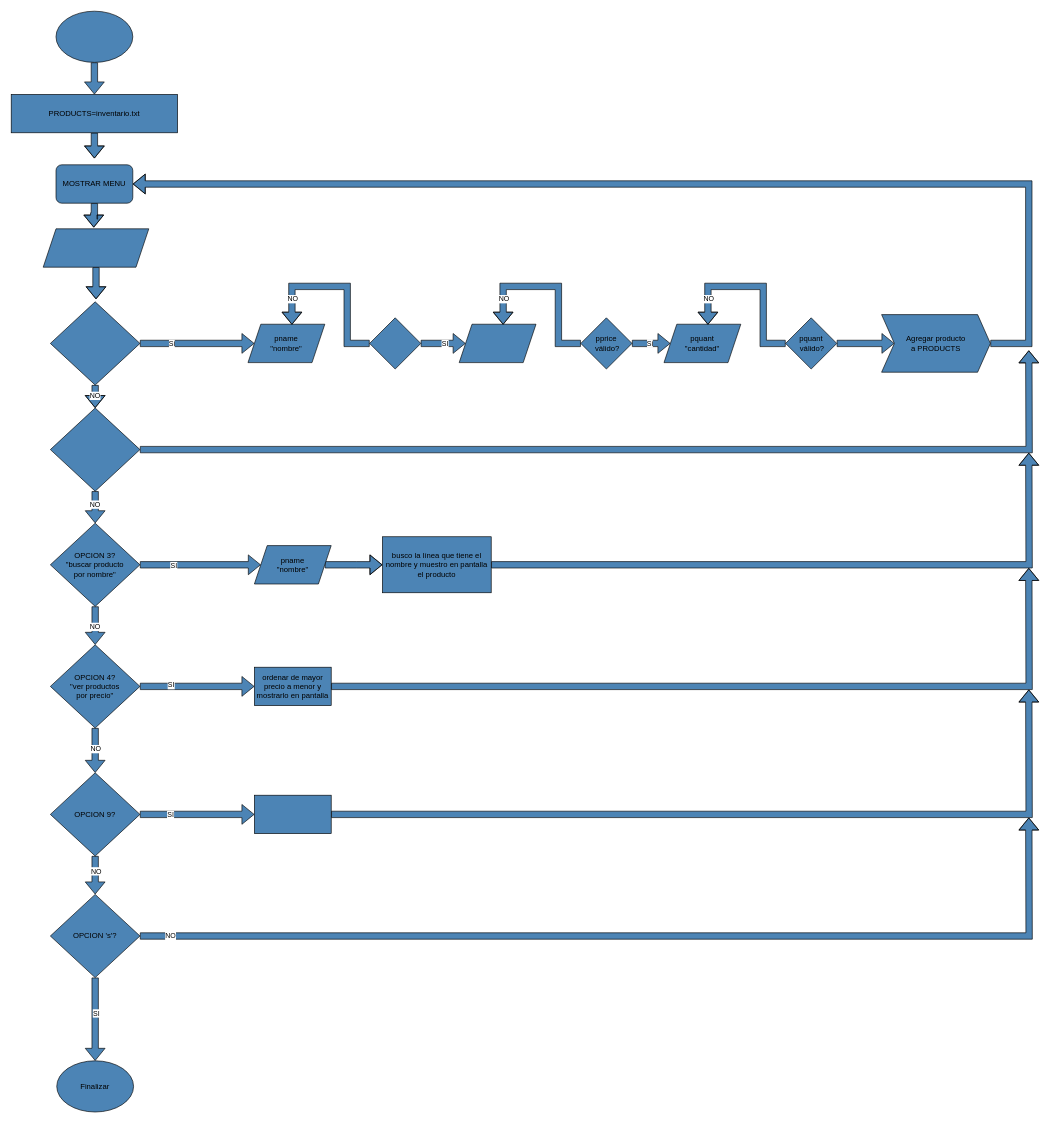
Some shapes in this 1050 by 1123 pixel diagram are drawn without their labels. The centre of each missing label's shape, as x and y in pixels:
Borra todos los productos sobreescribiendo PRODUCTS: (292,814)
INCIO: (94,36)
OPCION: (96,247)
OPCION 1? "agregar producto": (95,343)
OPCION 2? "mostrar productos": (95,449)
pname válido?: (395,343)
pprice "precio": (497,343)
